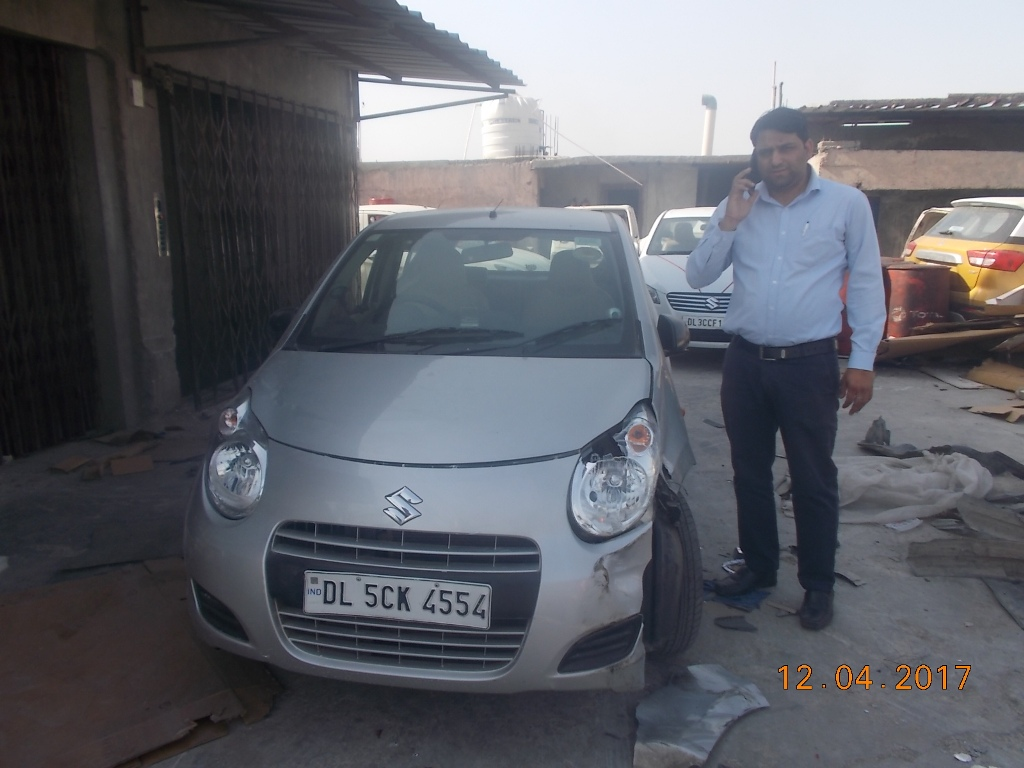Tear: (635, 474, 661, 679)
